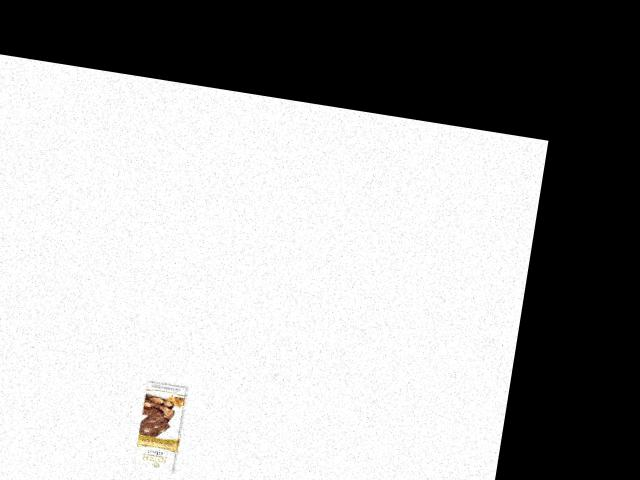chocolate: (123, 379, 195, 480)
